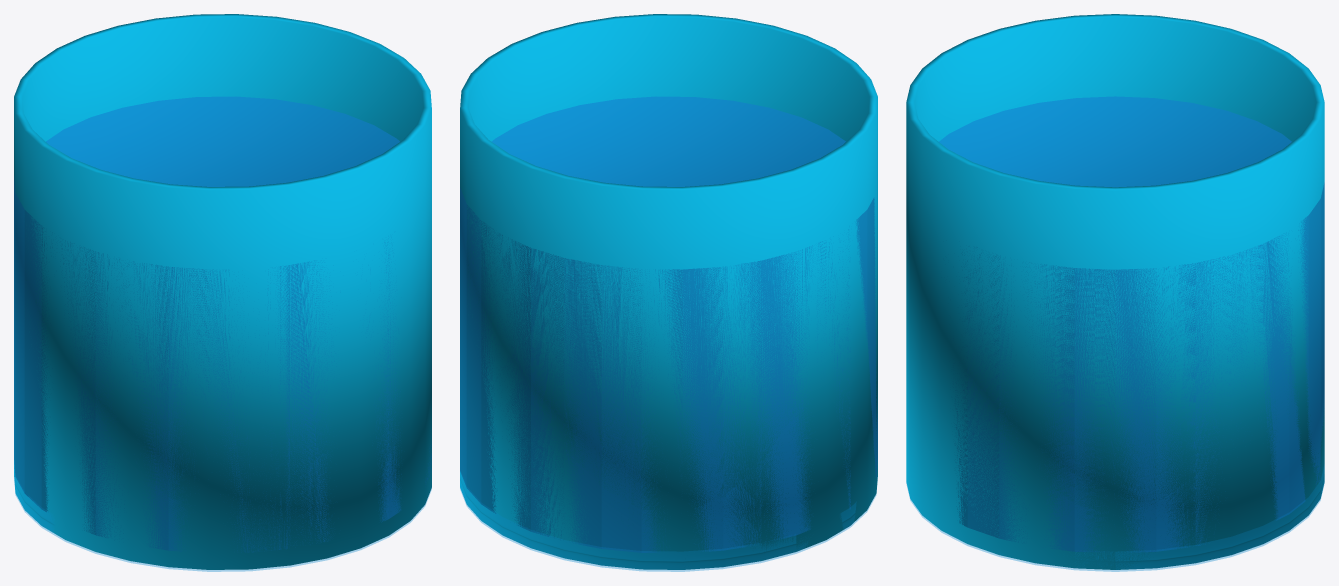
File: GlassOfWater.fbx
3 renders of one model, left to right at view 1: azimuth 30°, elevation 25°; view 2: azimuth 150°, elevation 25°; view 3: azimuth 270°, elevation 25°, orthographic.
Visible parts, largest first — view 1: Цилиндр, Цилиндр.002, Цилиндр.001; view 2: Цилиндр, Цилиндр.002, Цилиндр.001; view 3: Цилиндр, Цилиндр.002, Цилиндр.001.
Part boxes in pixels (left/top/right/bottom): Цилиндр: left=14, top=14, right=431, bottom=569; Цилиндр.002: left=14, top=96, right=431, bottom=552; Цилиндр.001: left=14, top=467, right=431, bottom=571; Цилиндр: left=460, top=14, right=877, bottom=569; Цилиндр.002: left=460, top=96, right=877, bottom=552; Цилиндр.001: left=460, top=471, right=876, bottom=571; Цилиндр: left=906, top=14, right=1324, bottom=569; Цилиндр.002: left=939, top=96, right=1324, bottom=552; Цилиндр.001: left=906, top=469, right=1324, bottom=571.
Bounding box in the file's own units: 200 × 201 × 200.
